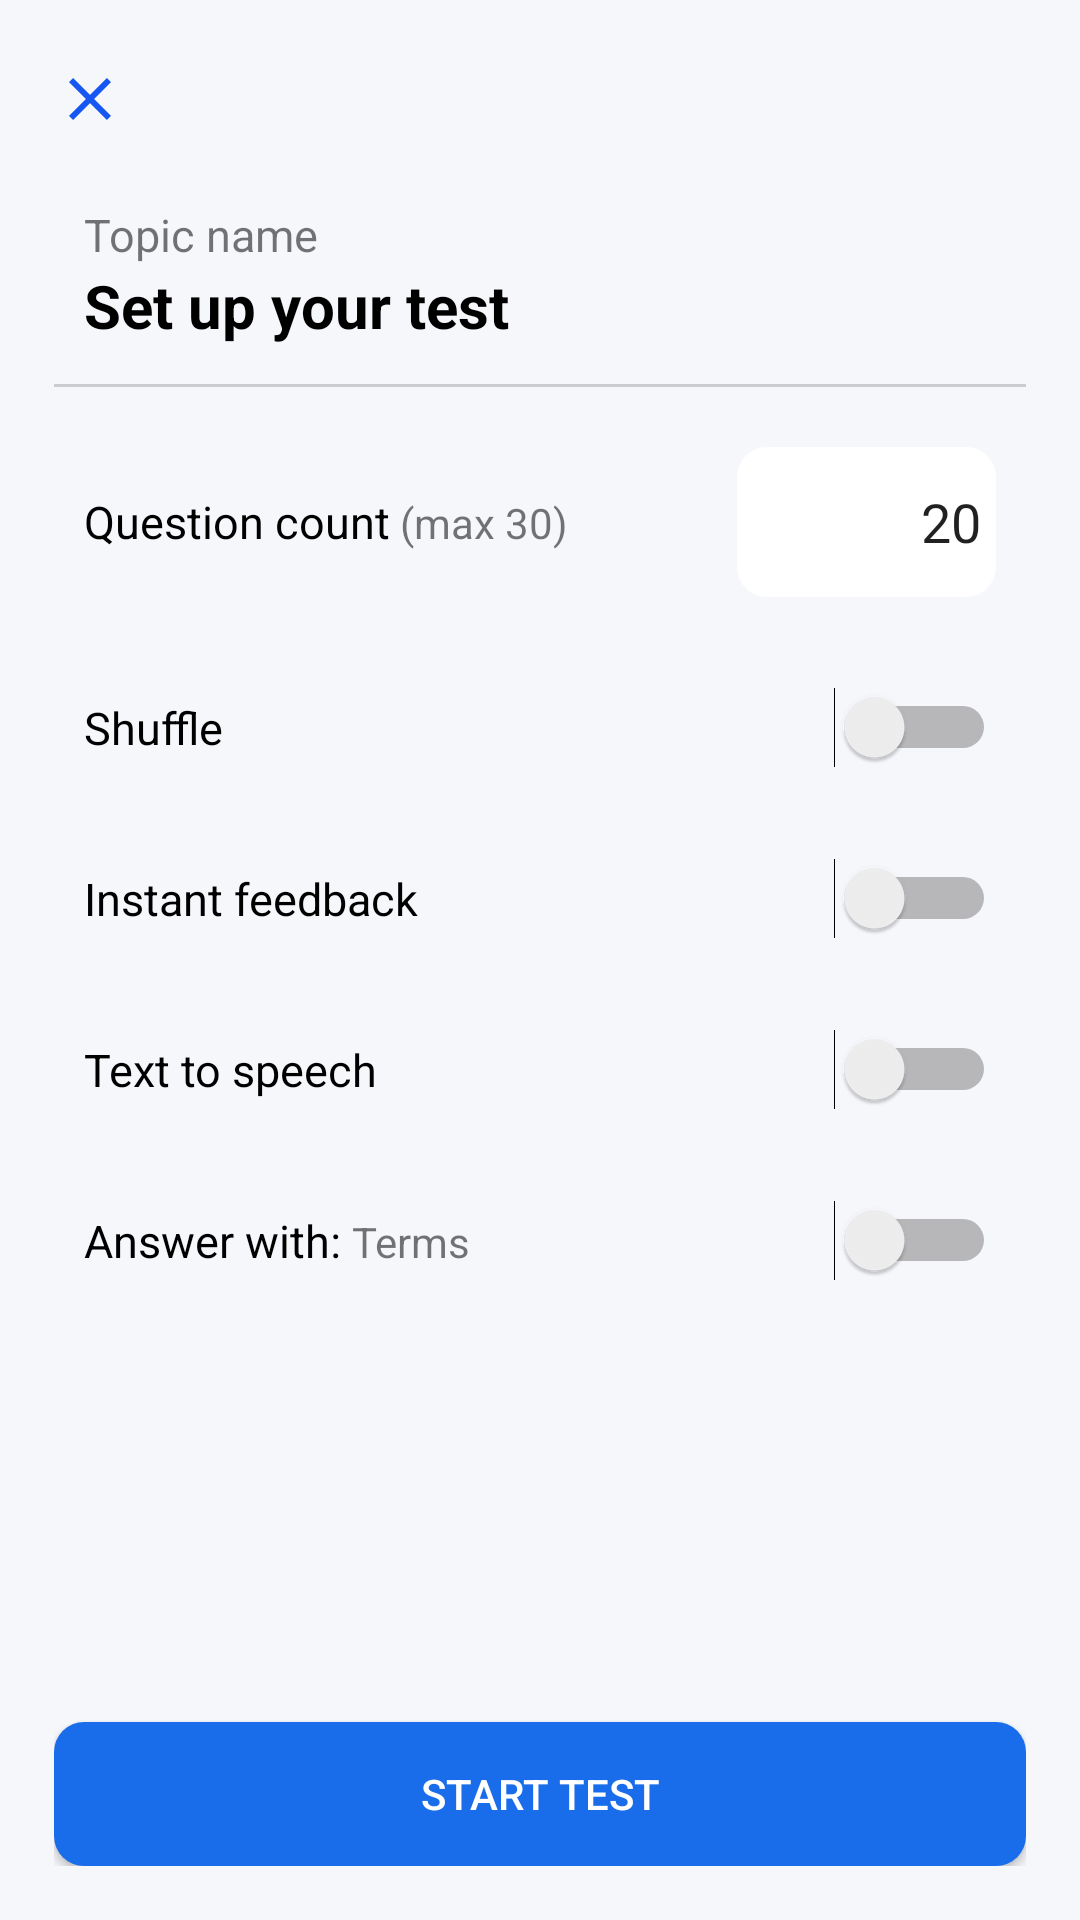

Named icons in this screenshot (1080px x 1920px) and their bounding boxes, [x1, y1, x2, y2]:
close: [69, 78, 111, 120]
